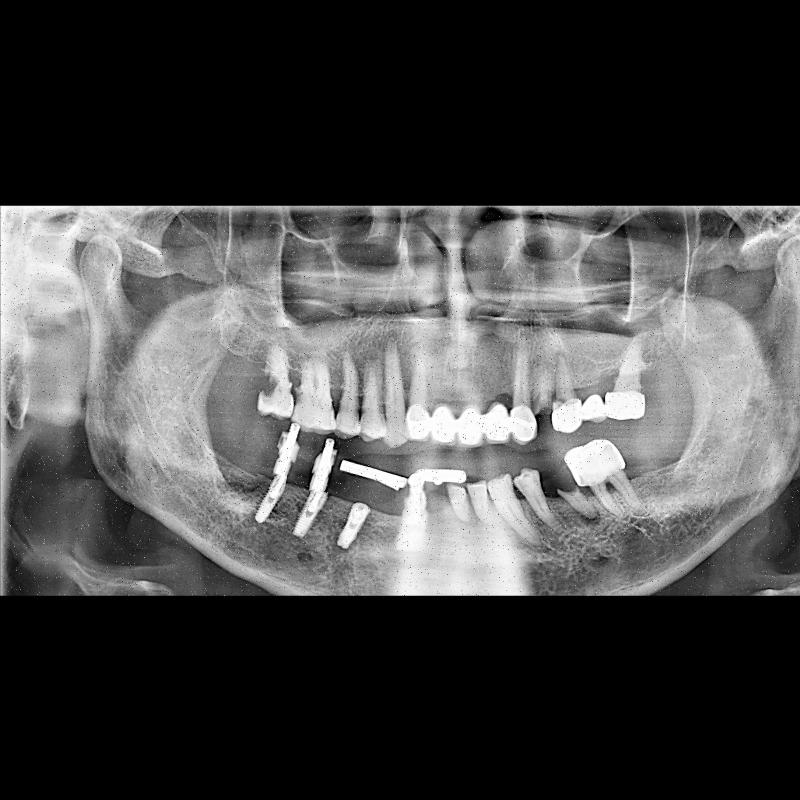osstem: (288, 489, 330, 541), (334, 501, 370, 553), (252, 471, 284, 527)
